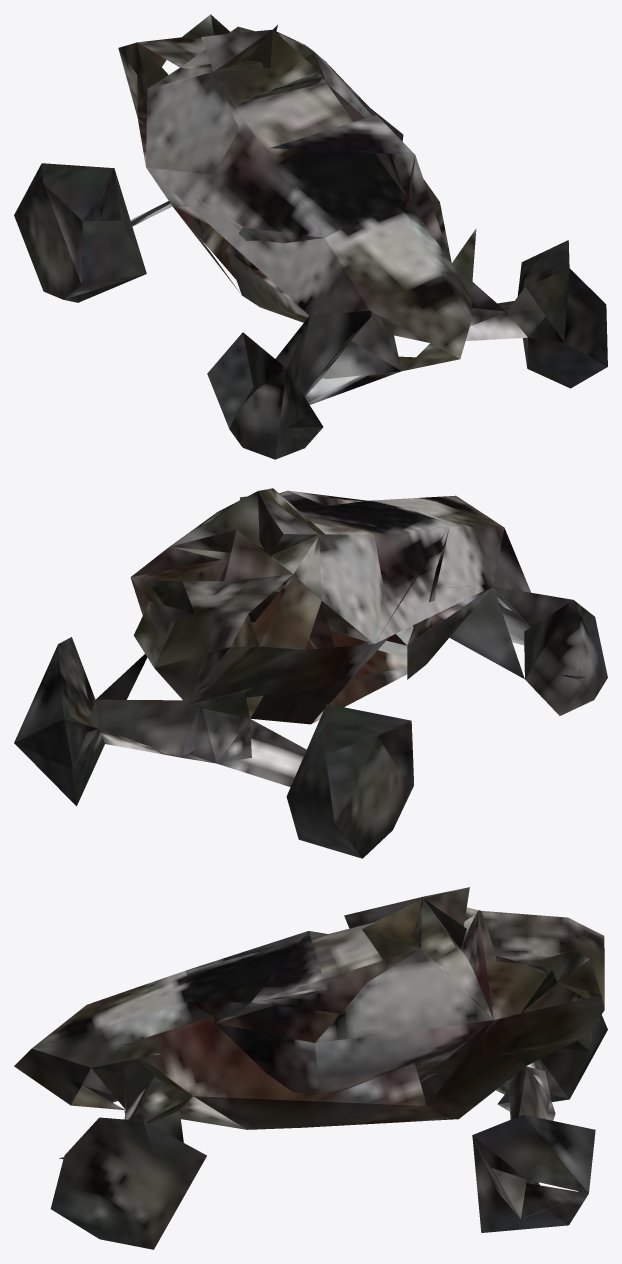
Rendered from buggy_118677426_lod1.glb.
The picture shows the model from 3 angles, top to bottom: view 1: azimuth 30°, elevation 25°; view 2: azimuth 150°, elevation 25°; view 3: azimuth 270°, elevation 25°; orthographic projection. The views are drawn at different scales.
Size of the model in its own units: 2.93 by 2.28 by 4.43.
Materials: 1 (1 with a texture image).
